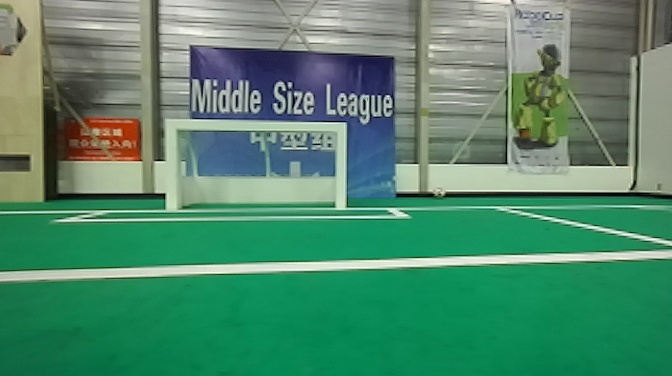ball: (421, 178, 446, 199)
goalpost: (155, 106, 192, 219), (330, 116, 351, 211)
